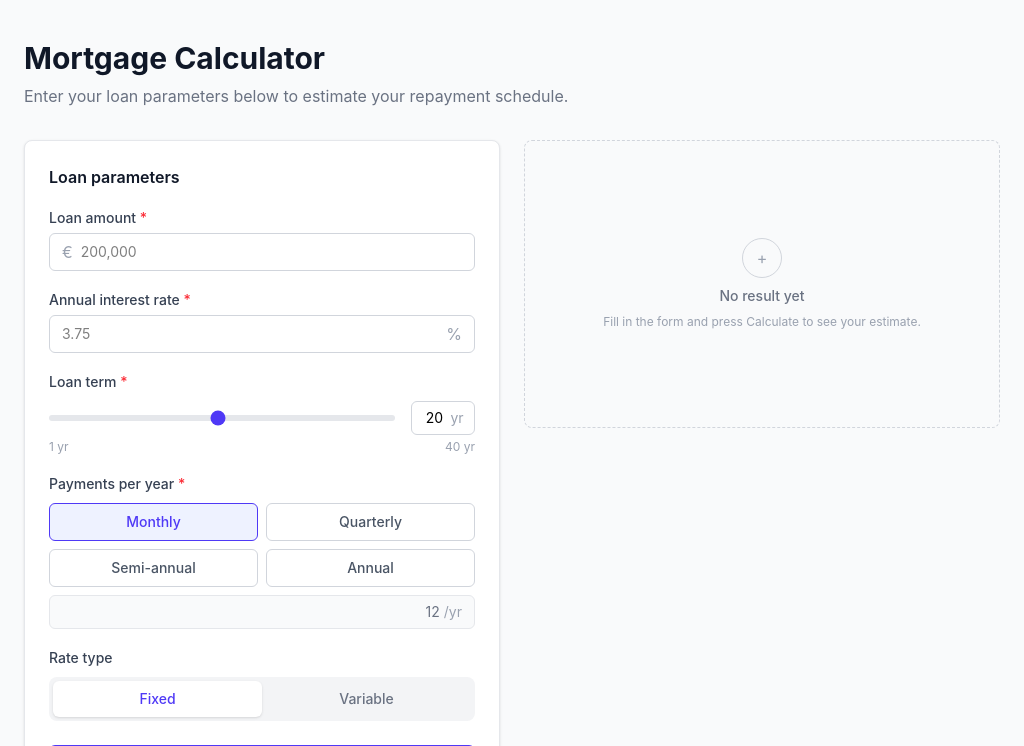
it: CalculatorPage result › clears the result when a field is edited after calculating
Type "100000" into the number field labelled "Loan amount *". click: (267, 252)
box: x1=73 y1=234 x2=462 y2=270
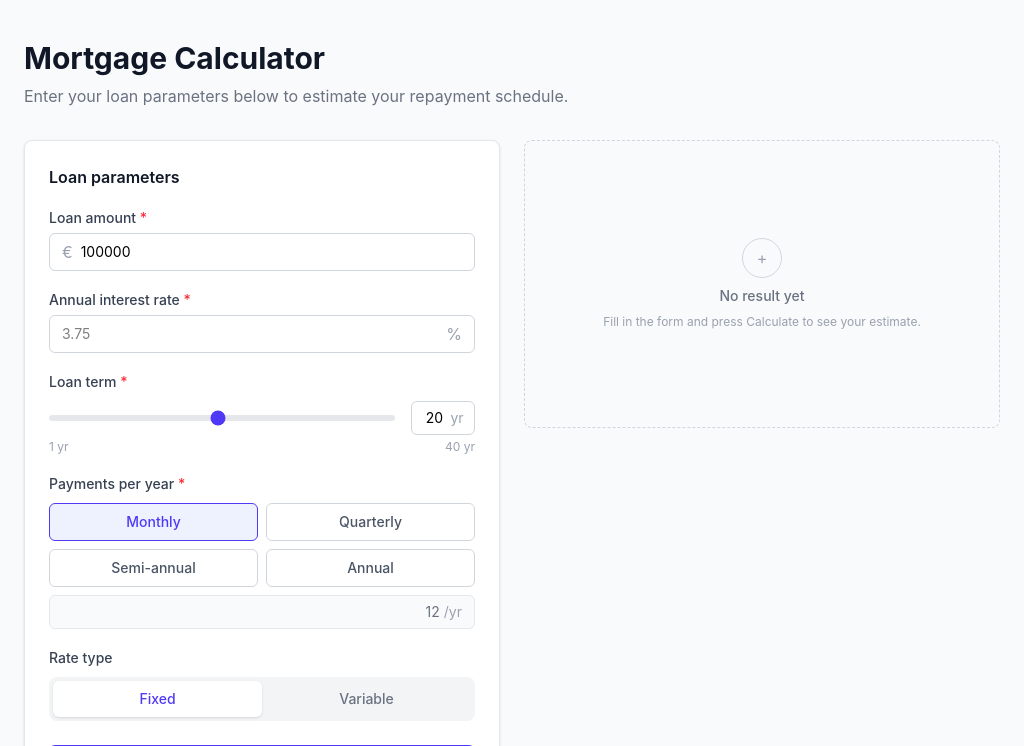
Type "3.5" into the number field labelled "Annual interest rate *". click: (254, 334)
box: x1=62 y1=316 x2=446 y2=352
(page scrolled)
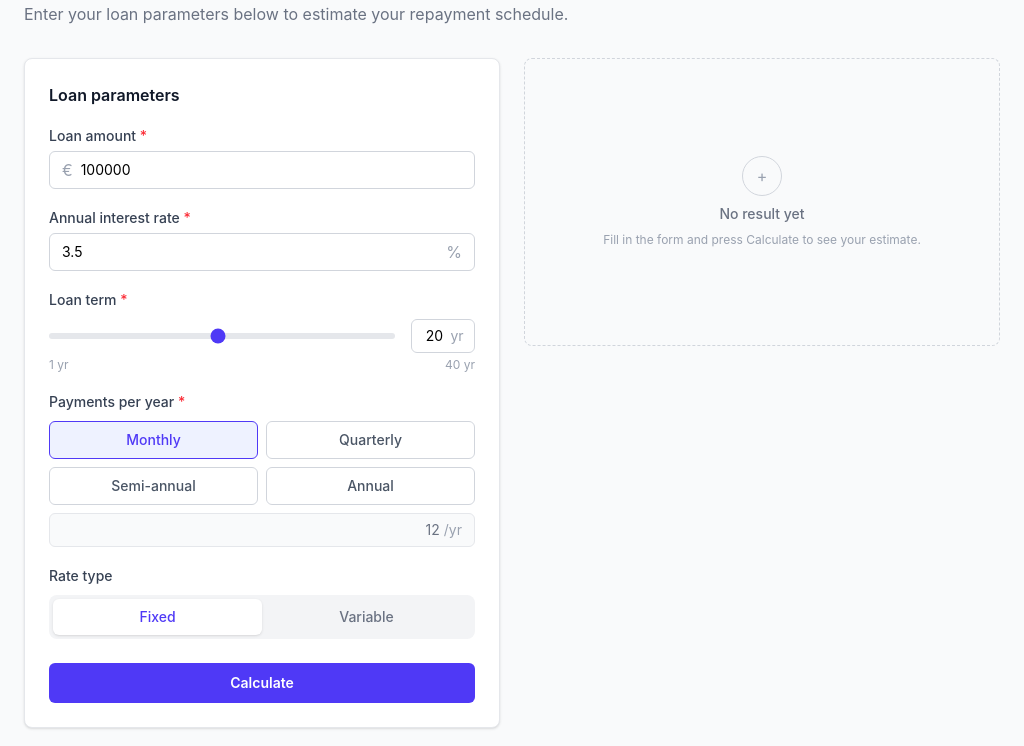
Click the button "Calculate". click: (262, 683)
box: x1=49 y1=663 x2=475 y2=703
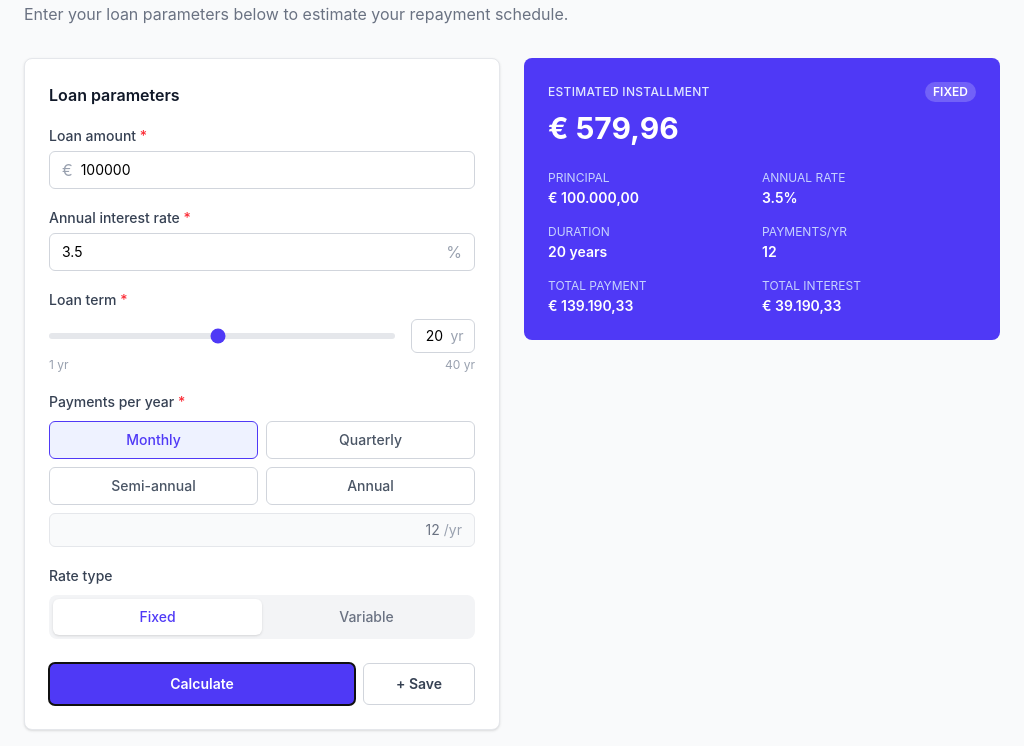
Type "1" into the number field labelled "Loan amount *". click: (267, 170)
box: x1=73 y1=152 x2=462 y2=188
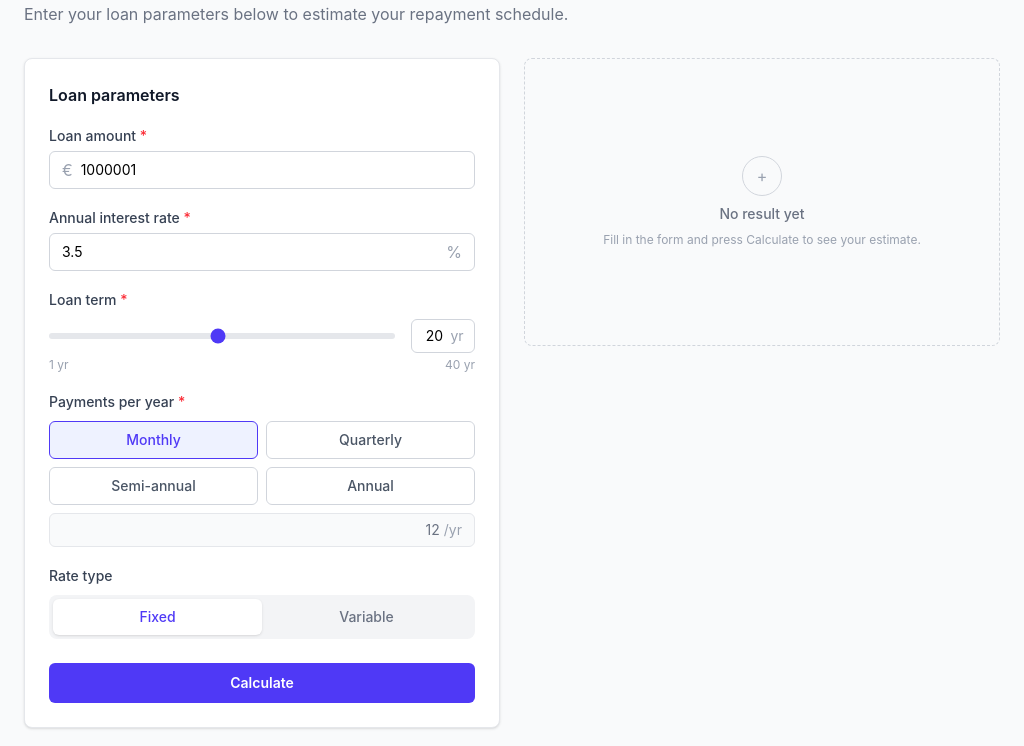
Now the text "Estimated installment" is gone
